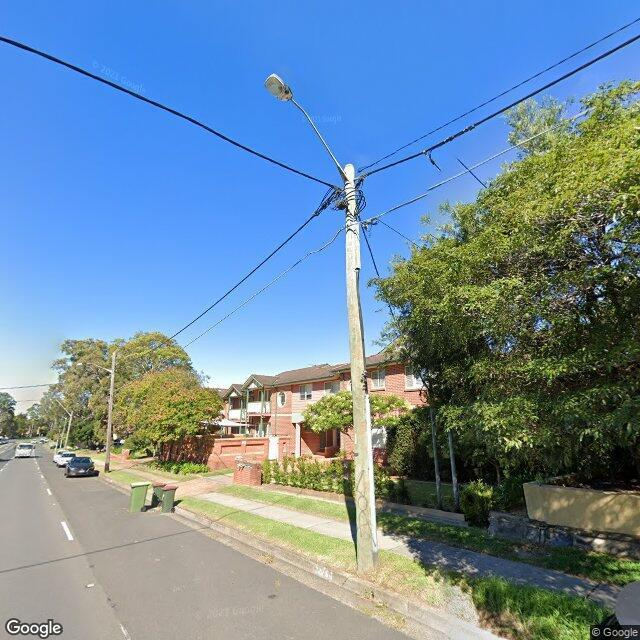streetlight: (264, 74, 350, 184), (76, 362, 112, 373), (51, 398, 71, 416)
timber-pole: (344, 164, 380, 574), (104, 351, 116, 474), (64, 411, 73, 449)
